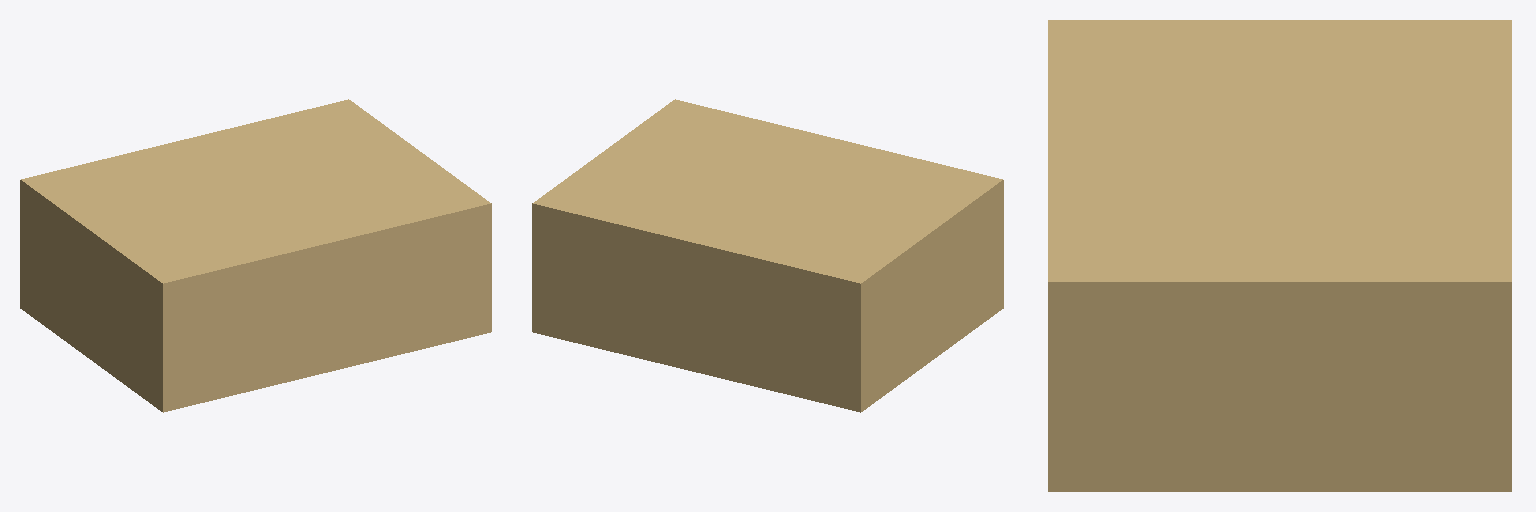
URDF robot description (box_small):
<?xml version="1.0"?>
<robot name="box_small">
  <link name="base_link">
    <inertial>
      <origin xyz="0 0 0.015000" rpy="0 0 0"/>
      <mass value="0.08"/>
      <inertia ixx="0.00003000" ixy="0" ixz="0" iyy="0.00004867" iyz="0" izz="0.00006667"/>
    </inertial>
    <visual>
      <origin xyz="0 0 0.015000" rpy="0 0 0"/>
      <geometry><box size="0.08 0.06 0.03"/></geometry>
      <material name="box_small_mat">
        <color rgba="0.85 0.75 0.55 1.0"/>
      </material>
    </visual>
    <collision>
      <origin xyz="0 0 0.015000" rpy="0 0 0"/>
      <geometry><box size="0.08 0.06 0.03"/></geometry>
    </collision>
  </link>
</robot>

--- Render facts (derived) ---
Views: 3 orthographic renders of the robot side by side, from view 1: azimuth 30°, elevation 25°; view 2: azimuth 150°, elevation 25°; view 3: azimuth 270°, elevation 25°.
Robot: box_small — 1 links, 0 joints (none); root link base_link; default pose: every joint at zero.
Visible links, largest first — view 1: base_link; view 2: base_link; view 3: base_link.
Boxes of the visible links, x1,y1,x2,y2 form: base_link: (20, 99, 491, 412); base_link: (532, 99, 1003, 412); base_link: (1048, 20, 1511, 491).
Size in the robot's own frame: 0.08 by 0.06 by 0.03 metres.
Geometry: primitives only (box / cylinder / sphere), no mesh files.
